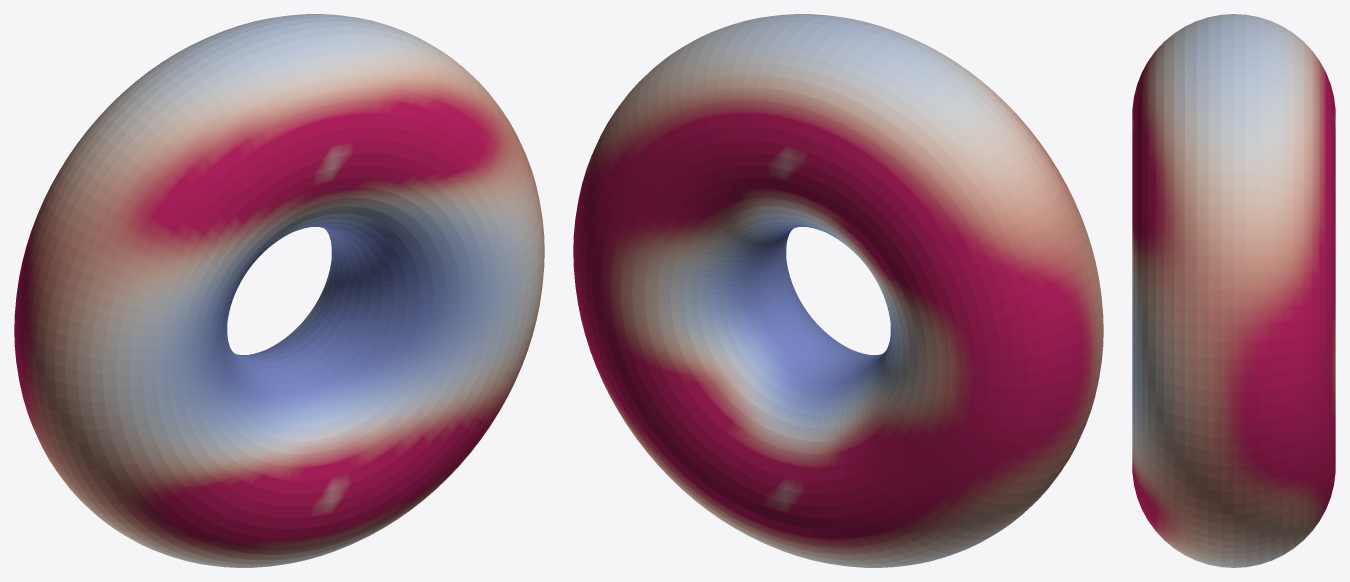
3 renders of one model, left to right at view 1: azimuth 30°, elevation 25°; view 2: azimuth 150°, elevation 25°; view 3: azimuth 270°, elevation 25°, orthographic. The views are drawn at different scales.
Visible parts, largest first — view 1: world; view 2: world; view 3: world.
Boxes of the visible parts, <box> form: world: <box>14,14,544,567</box>; world: <box>573,14,1103,567</box>; world: <box>1132,14,1335,567</box>.
Size of the model in its own units: 22.13 by 22.13 by 8.12.
